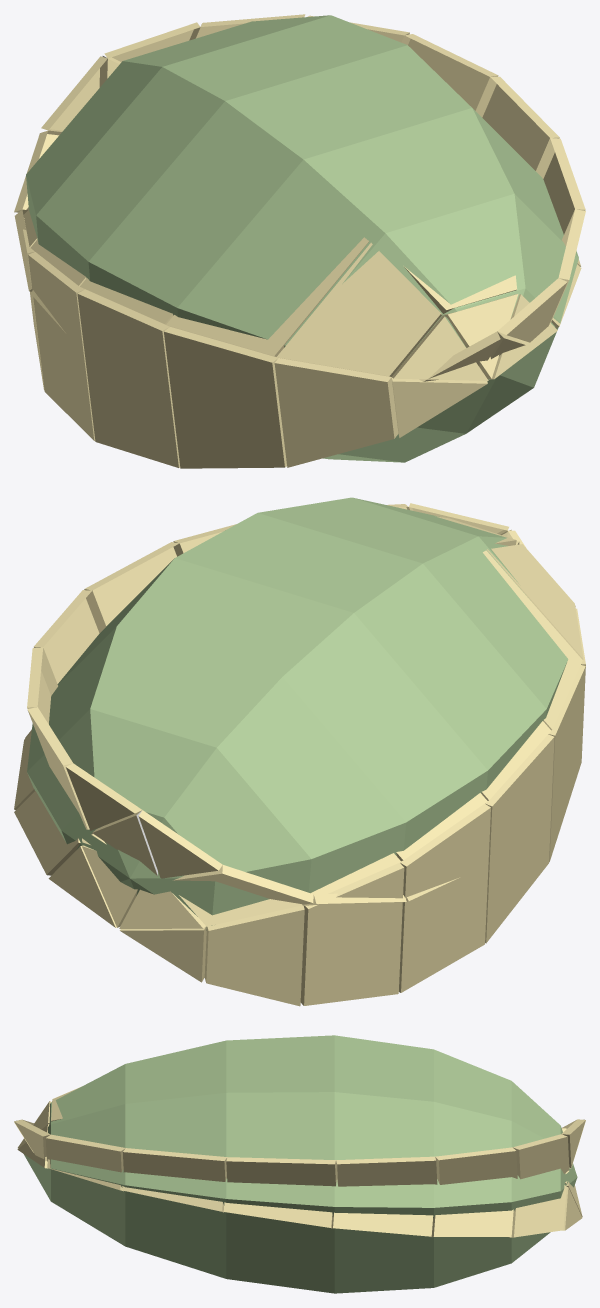
Rendered from antepfistigimermi.fbx.
The picture shows the model from 3 angles, top to bottom: view 1: azimuth 30°, elevation 25°; view 2: azimuth 150°, elevation 25°; view 3: azimuth 270°, elevation 25°; orthographic projection. The views are drawn at different scales.
Visible parts, largest first — view 1: kurdanatar_ust.011, kurdanatar_ust.012, kurdanatar_ust.010; view 2: kurdanatar_ust.011, kurdanatar_ust.012, kurdanatar_ust.010; view 3: kurdanatar_ust.011, kurdanatar_ust.010, kurdanatar_ust.012.
Boxes of the visible parts, <box> form: kurdanatar_ust.011: <box>26,15,578,462</box>; kurdanatar_ust.012: <box>23,207,581,468</box>; kurdanatar_ust.010: <box>14,14,585,381</box>; kurdanatar_ust.011: <box>27,497,568,930</box>; kurdanatar_ust.012: <box>14,516,585,1006</box>; kurdanatar_ust.010: <box>27,503,525,905</box>; kurdanatar_ust.011: <box>24,1035,577,1293</box>; kurdanatar_ust.010: <box>14,1119,585,1186</box>; kurdanatar_ust.012: <box>17,1086,582,1237</box>.
Bounding box in the file's own units: 24.94 × 19.17 × 39.77.
Materials: 1 (1 with a texture image).
